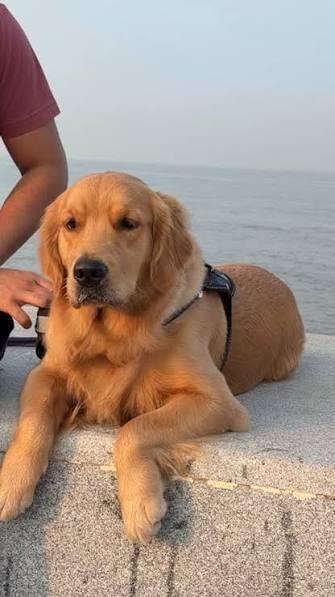adult_dog: (0, 173, 307, 543)
non-dog: (1, 3, 68, 363)
